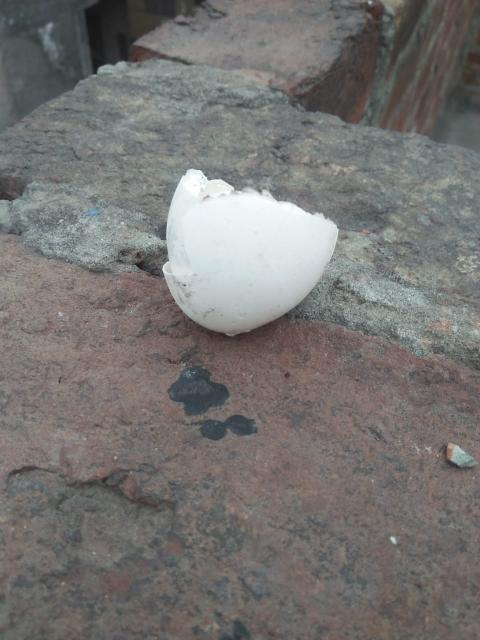Roto: (162, 168, 339, 337)
